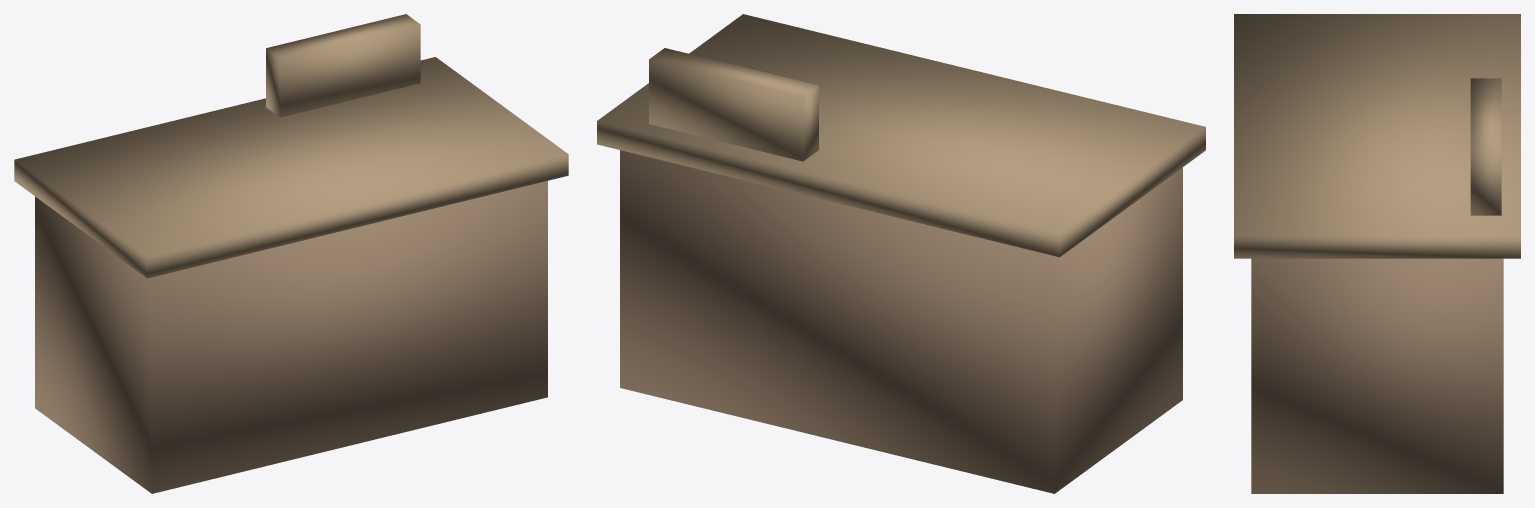
File: clerk_counter__deep.glb
3 renders of one model, left to right at view 1: azimuth 30°, elevation 25°; view 2: azimuth 150°, elevation 25°; view 3: azimuth 270°, elevation 25°, orthographic. The views are drawn at different scales.
Parts seen in each view (by area): view 1: world; view 2: world; view 3: world.
Part boxes in pixels (<box>): world: <box>14,14,568,493</box>; world: <box>597,14,1205,493</box>; world: <box>1234,14,1520,493</box>.
Bounding box in the file's own units: 1.65 × 1.14 × 0.9028.
